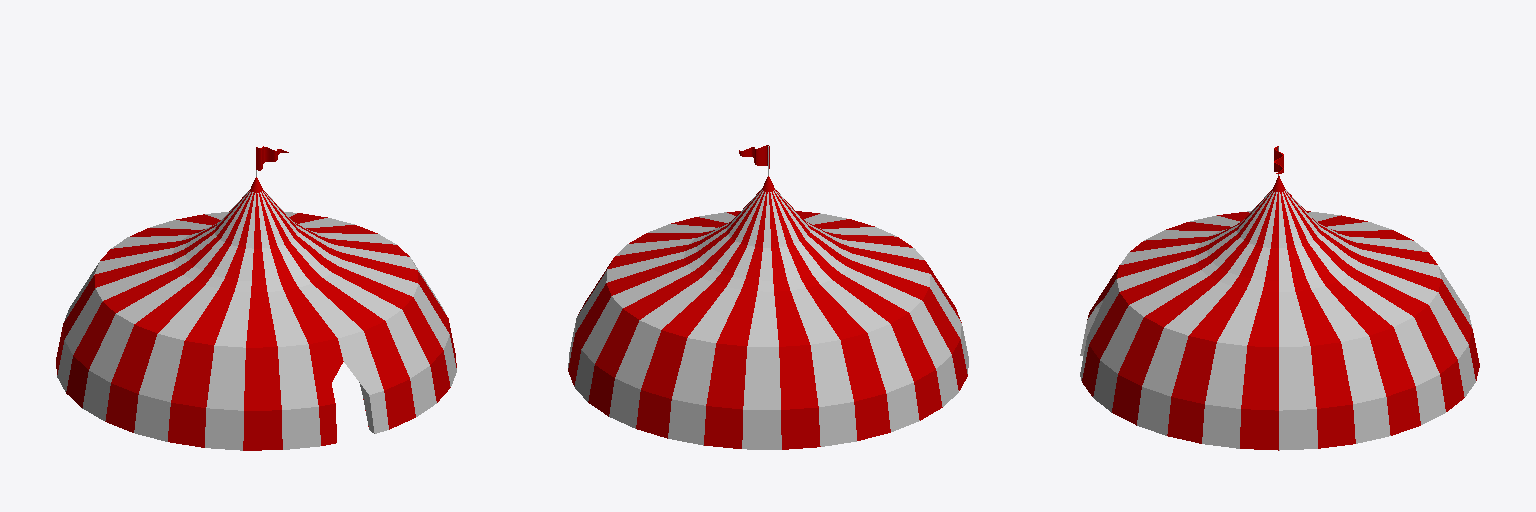
File: tent.obj
The picture shows the model from 3 angles: view 1: azimuth 30°, elevation 25°; view 2: azimuth 150°, elevation 25°; view 3: azimuth 270°, elevation 25°; orthographic projection.
Size of the model in its own units: 43.51 by 26.16 by 43.28.